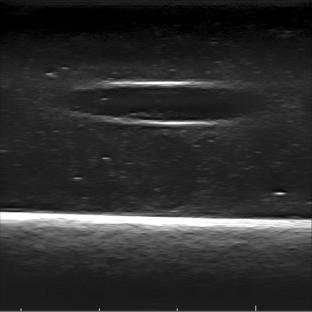vessel: (63, 80, 260, 126)
